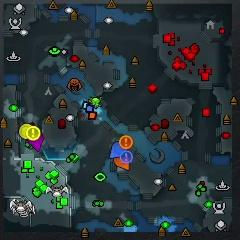Other: (27, 126, 41, 141), (120, 135, 133, 150), (120, 150, 133, 164)
p1: (108, 140, 128, 159)
p3: (27, 132, 44, 152)
p4: (19, 124, 32, 140)
p5: (113, 156, 130, 171)
